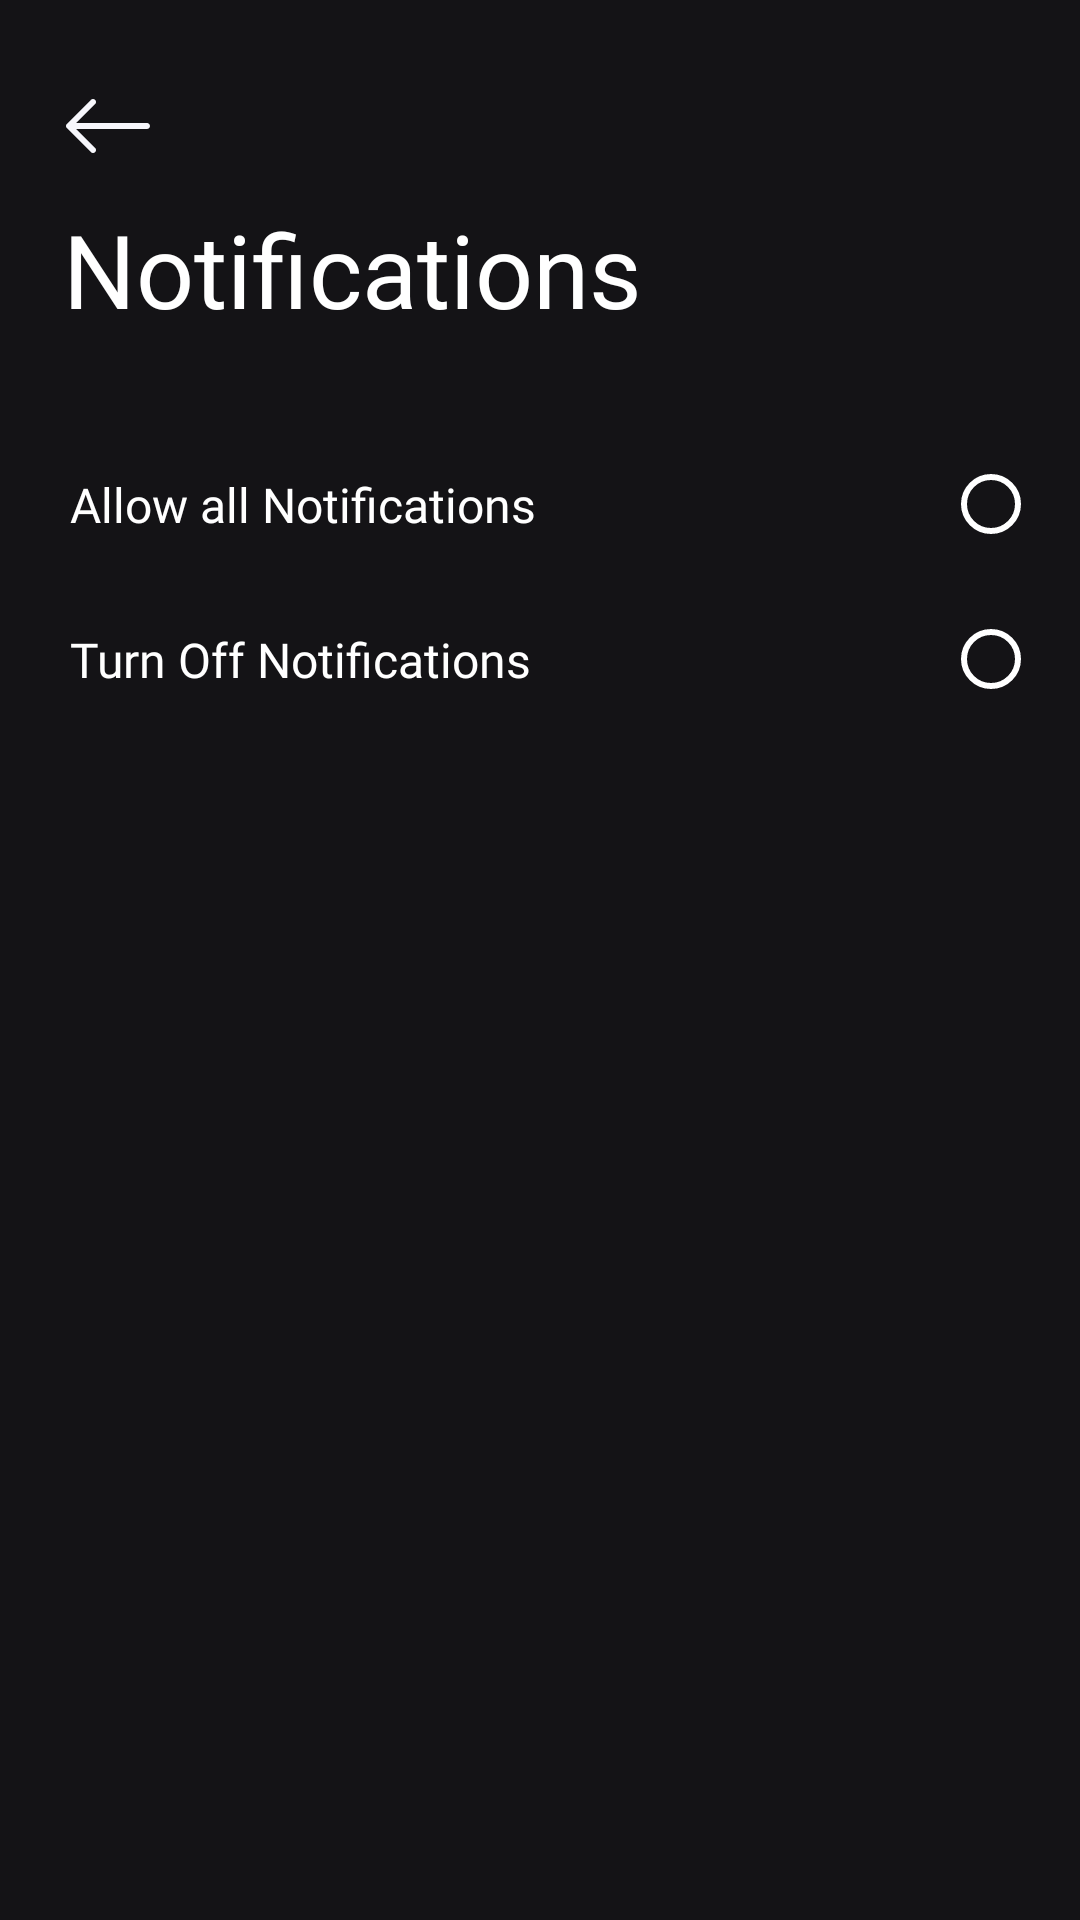

Where icons sit on this 1080px x 1920px app screen, as (x1, y1, x2, y2):
back: (66, 99, 150, 153)
